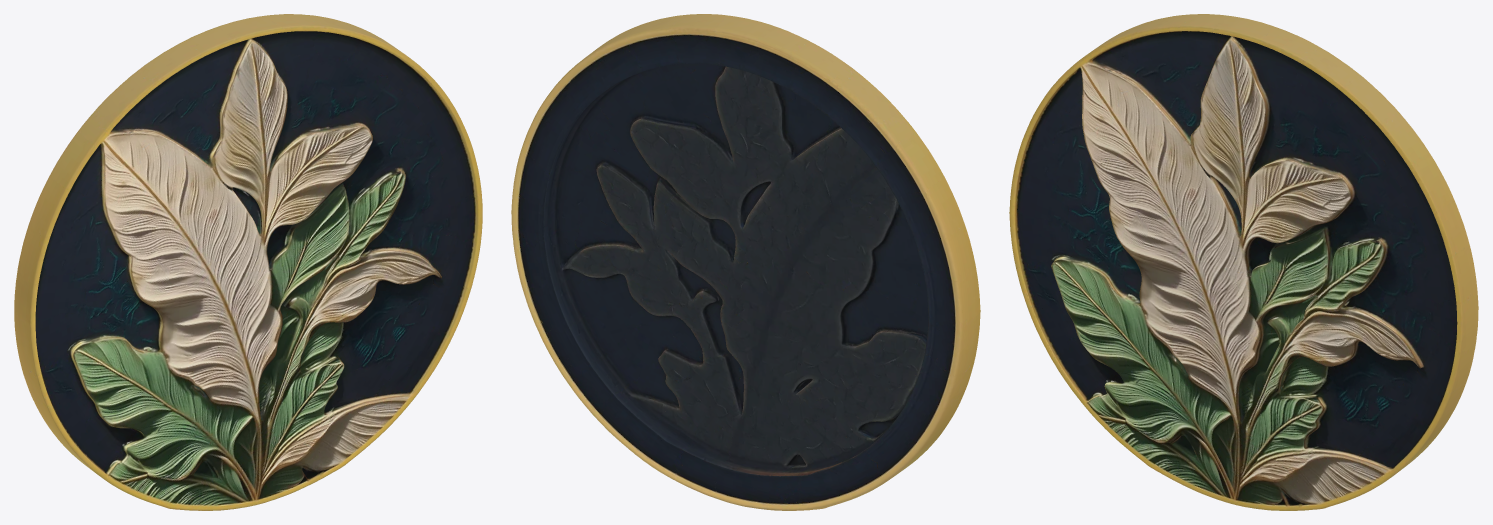
Rendered from Meshy_AI_Botanical_Relief_0920132420_texture.glb.
The picture shows the model from 3 angles, left to right: view 1: azimuth 30°, elevation 25°; view 2: azimuth 150°, elevation 25°; view 3: azimuth 330°, elevation 25°; orthographic projection.
Bounding box in the file's own units: 1.9 × 1.9 × 0.1371.
1 material, 1 textured.
